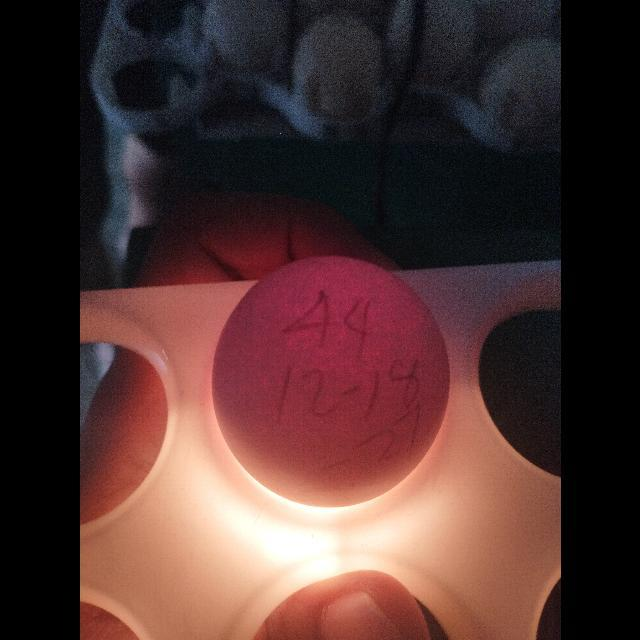Infertile: (205, 250, 457, 518)
